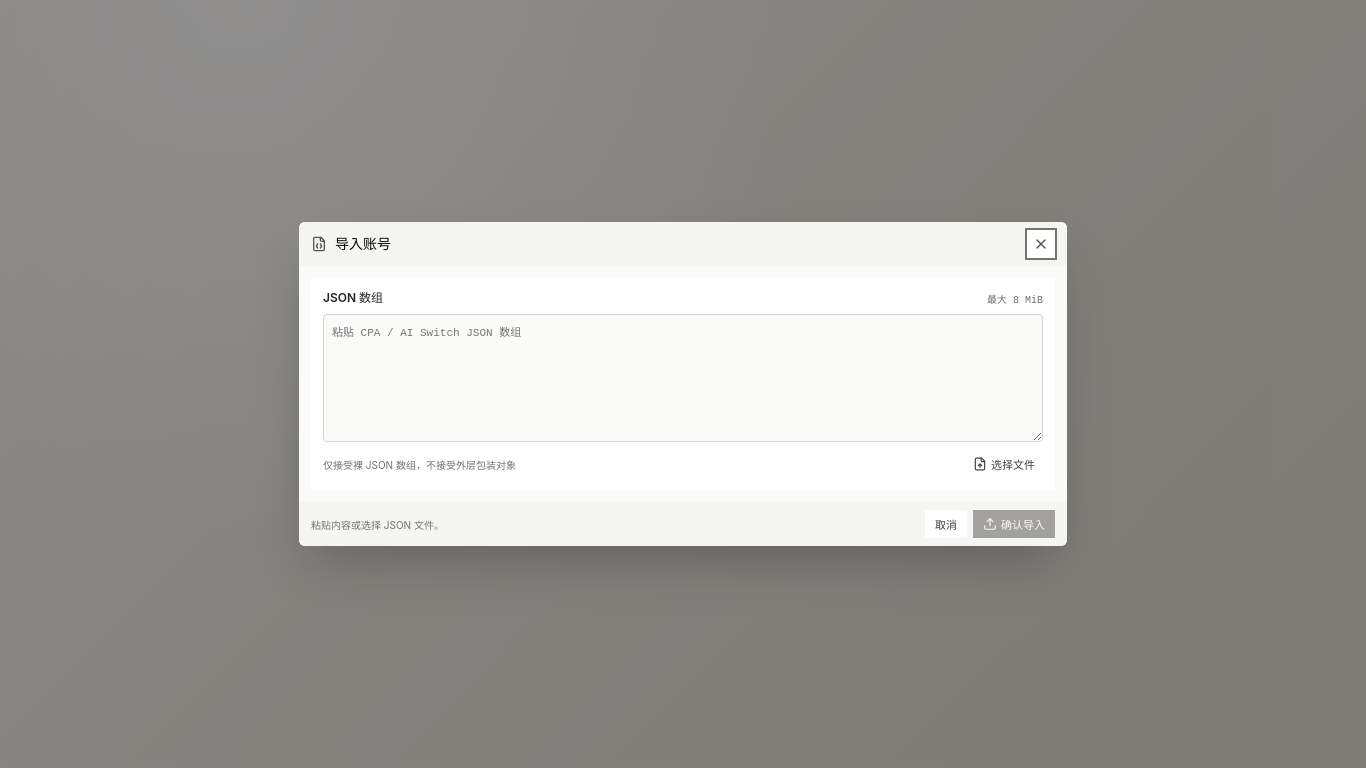
Test: RouteCredentialImportDialog › requires explicit pool restoration and keeps one completion page
Type "[]" into the text box named "账号 JSON" at (683, 378), box [323,314,1043,442]
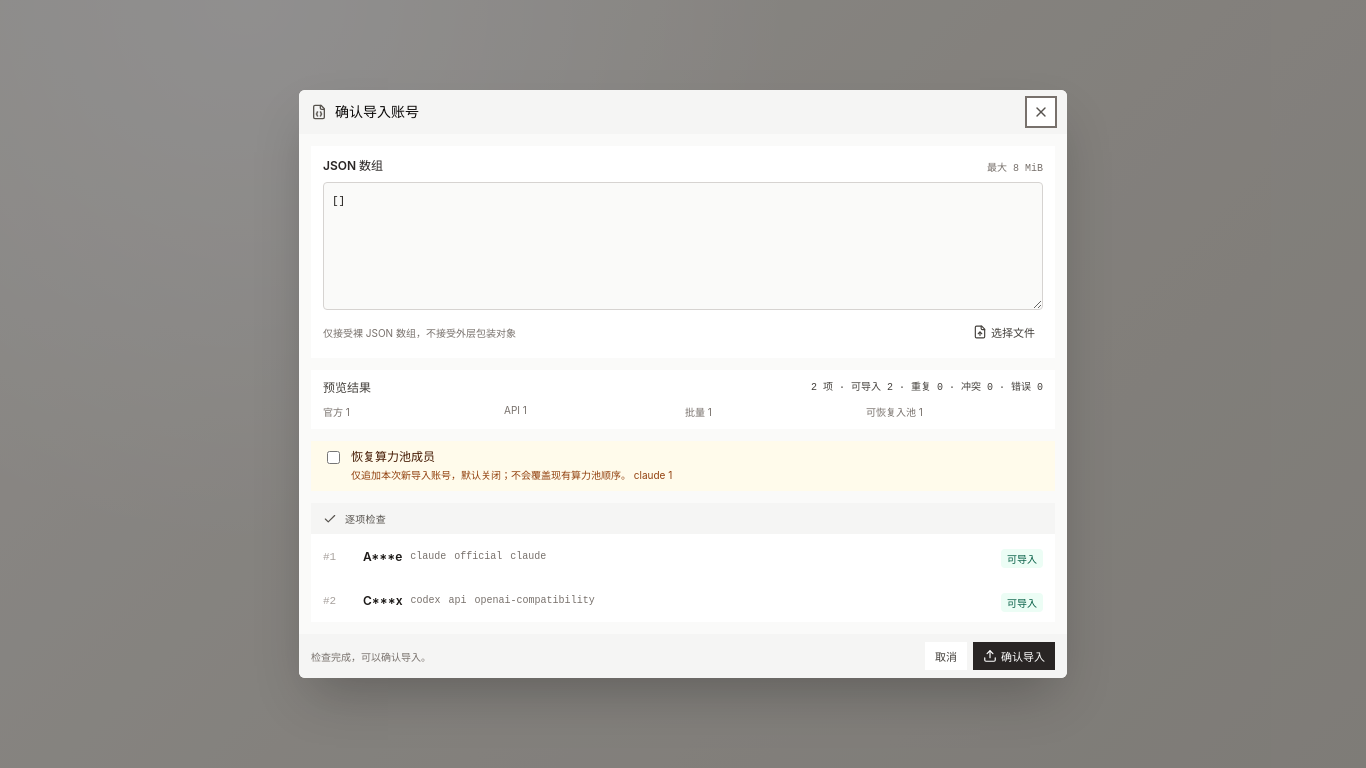
Expected: the text "A***e" is shown, [363,549,402,564]
Expected: the checkbox labelled "恢复算力池成员" is not checked
Click the checkbox labelled "恢复算力池成员" at (334, 458), box [327,451,340,464]
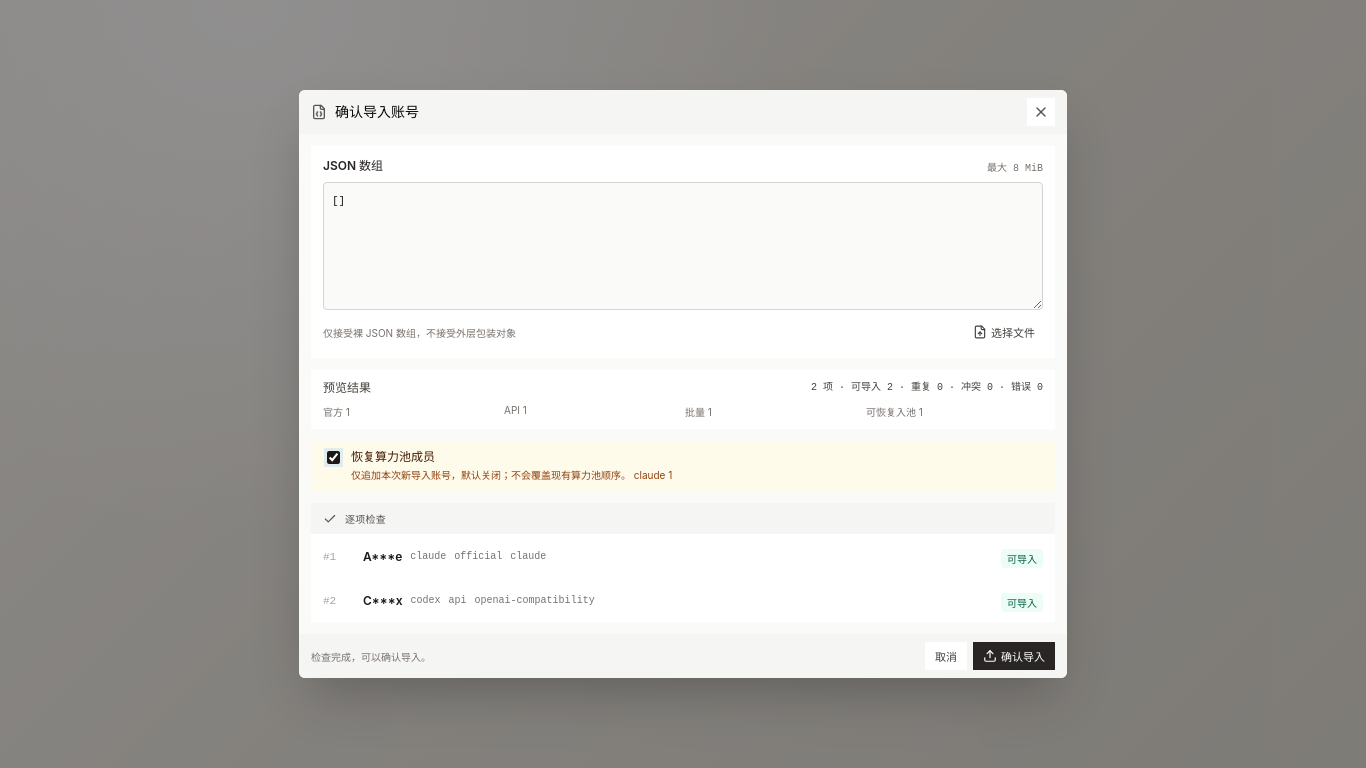
Click the button with aria-label "确认导入账号" at (1014, 656), box [973,642,1055,670]
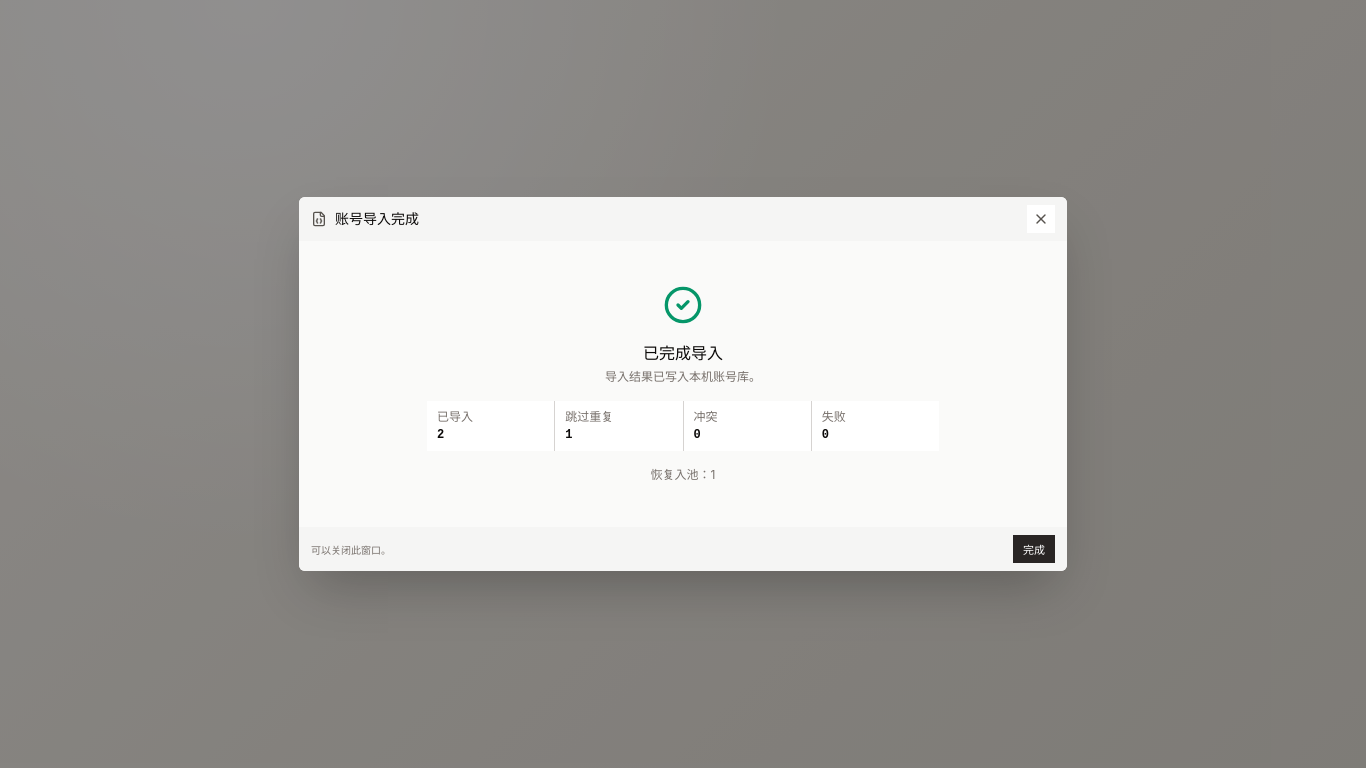
Expected: the button named "关闭导入账号" is shown, [1027,205,1055,233]
Expected: the heading "已完成导入" is shown, [643,343,723,363]
